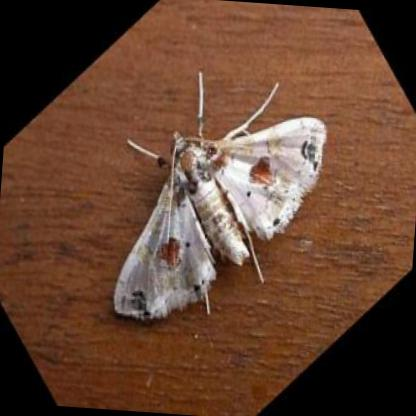leucinodes: (111, 119, 327, 320)
